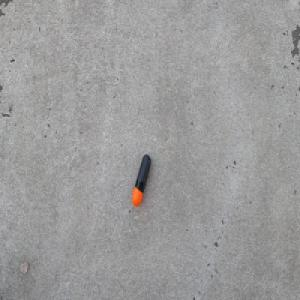PlasticPart: (131, 153, 151, 207)
